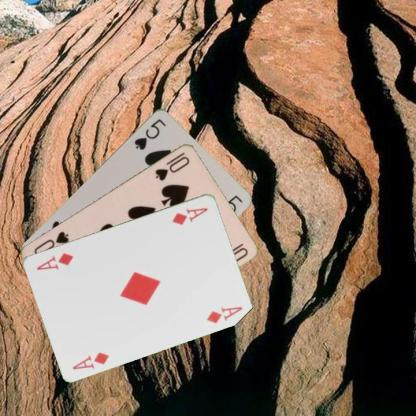10s: (152, 149, 190, 182)
5s: (131, 115, 168, 151)
Ad: (169, 204, 209, 226), (70, 349, 110, 371)
